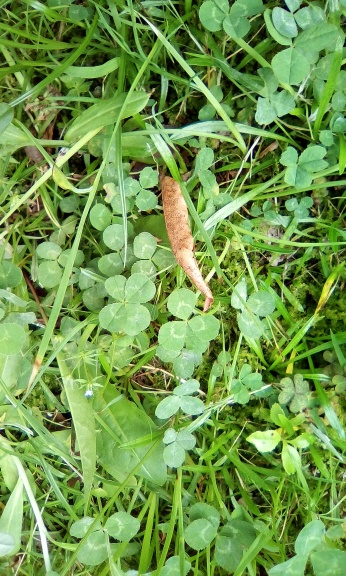4leaf: (99, 272, 156, 335)
